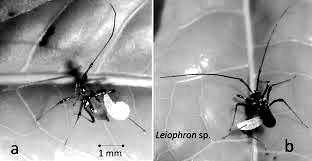Helopeltis-insect: (56, 64, 116, 123), (235, 80, 281, 130)
